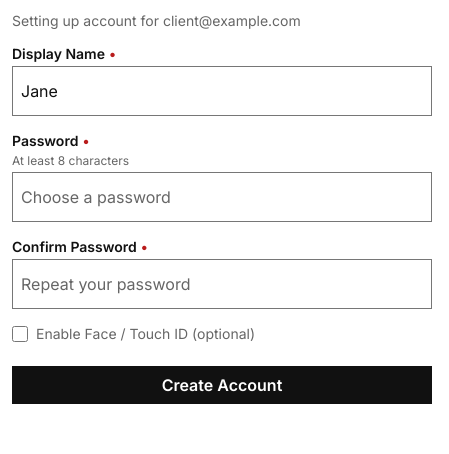
InviteForm › shows a min-length error and does not submit when the password is shorter than 8 characters
In the password field with placeholder "Choose a password": (222, 197) [12,172,432,222], type "short"
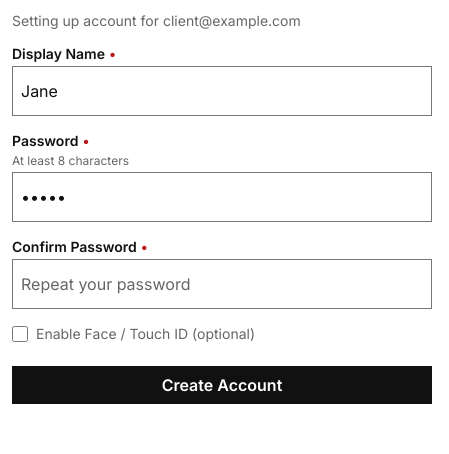
In the password field with placeholder "Repeat your password": (222, 284) [12,259,432,309], type "short"
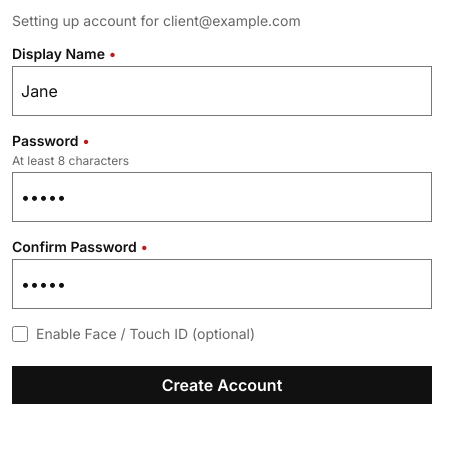
Click the button "Create Account": (222, 385) [12,366,432,404]
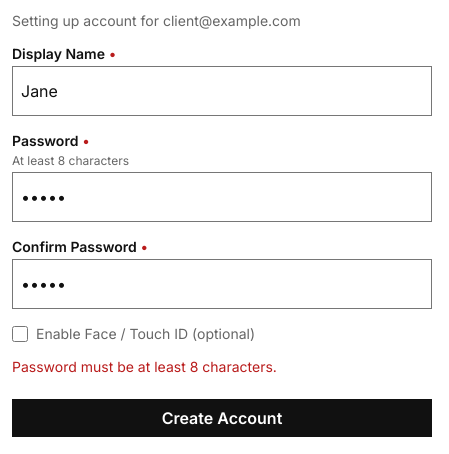
Check: the message shows "at least 8 characters", box [12,358,277,375]
